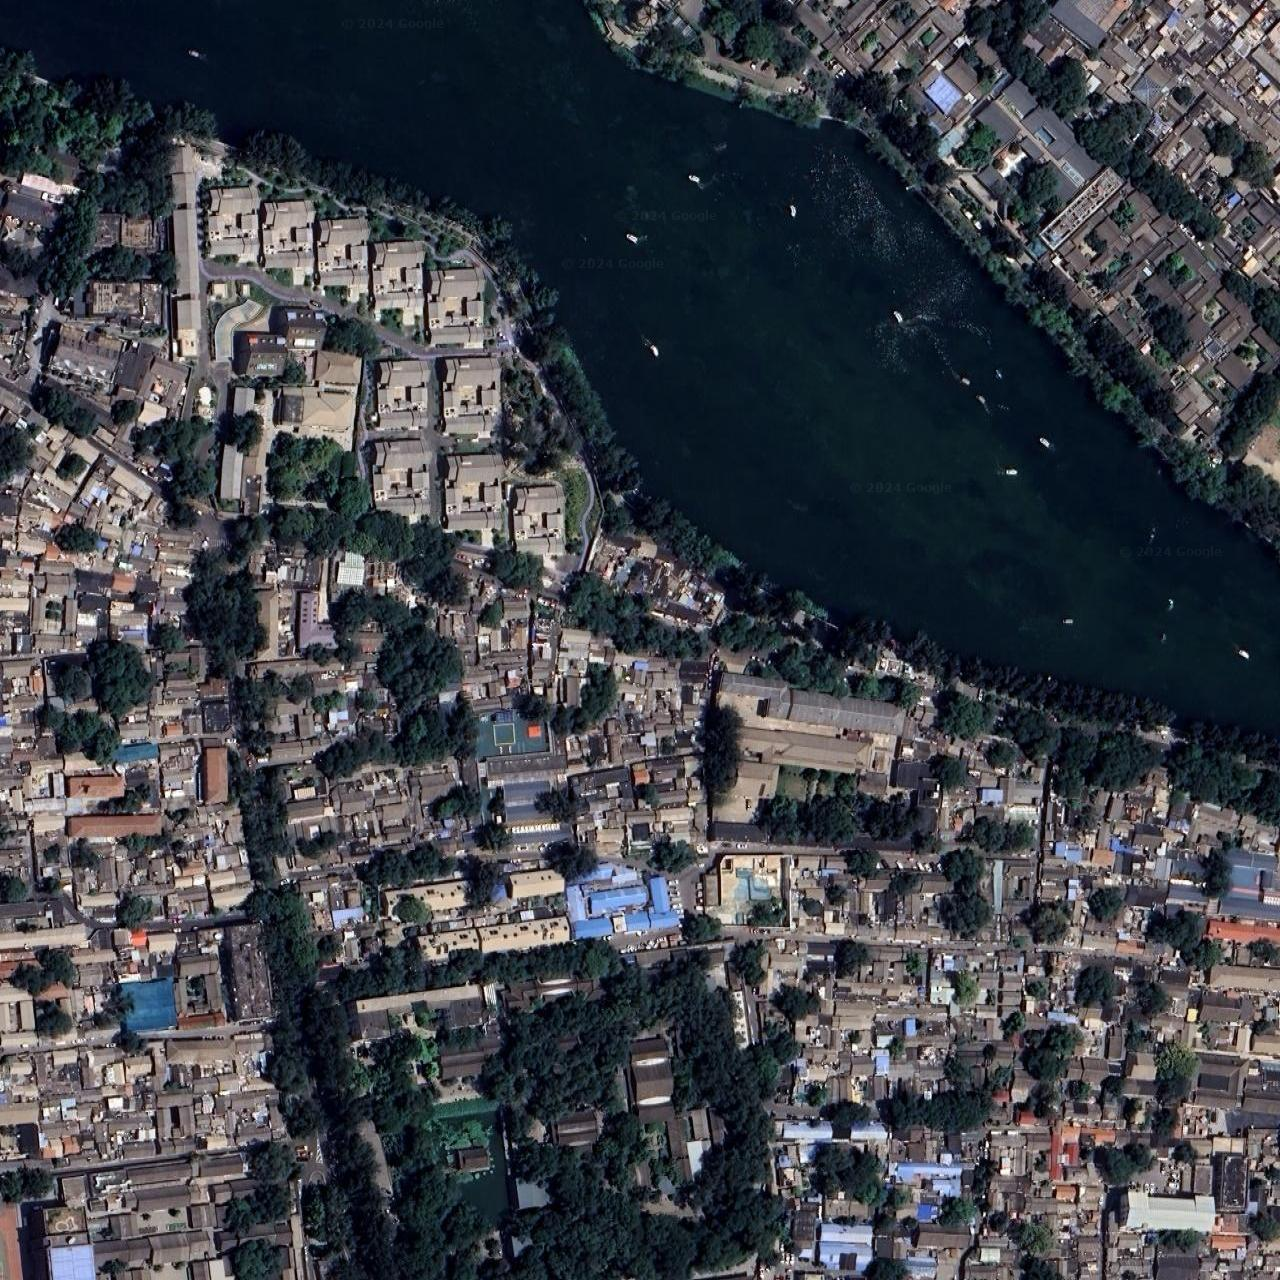greenery: (219, 550, 835, 1280), (469, 550, 1268, 835), (219, 414, 489, 776), (708, 754, 1028, 939), (618, 0, 904, 104), (911, 97, 1088, 245), (831, 1061, 1035, 1150), (826, 1143, 918, 1280)
house: (4, 169, 275, 1280), (809, 778, 1276, 1279), (215, 168, 717, 629), (844, 1, 1280, 454), (343, 625, 717, 939), (1015, 0, 1280, 253), (928, 1128, 1046, 1274)
water: (0, 7, 1280, 823)
